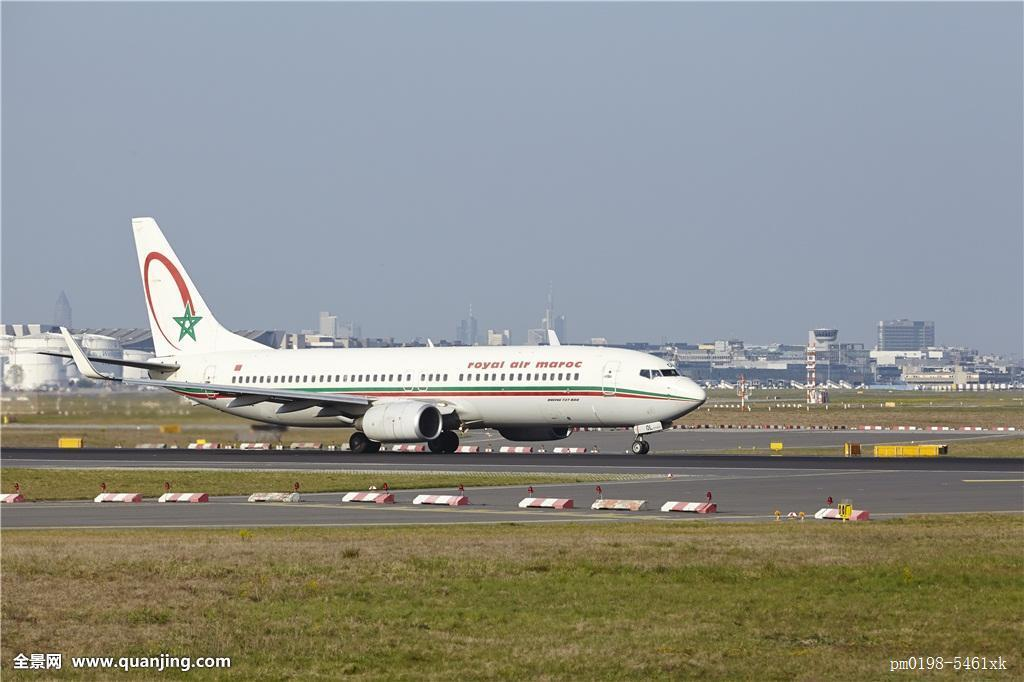airplane: (74, 211, 710, 459)
